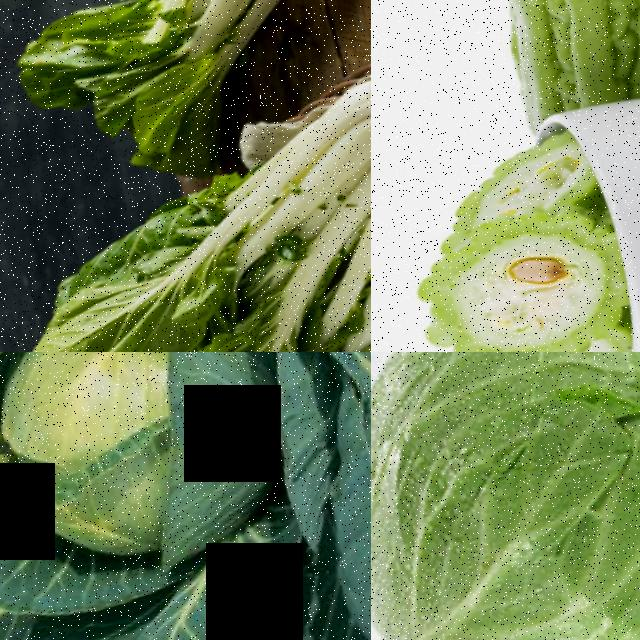bitter gourd: (422, 171, 640, 352), (435, 0, 640, 140)
bok choy: (0, 0, 371, 158), (45, 179, 316, 352), (264, 240, 371, 352)
cabbage: (0, 352, 371, 640), (371, 352, 640, 640)
